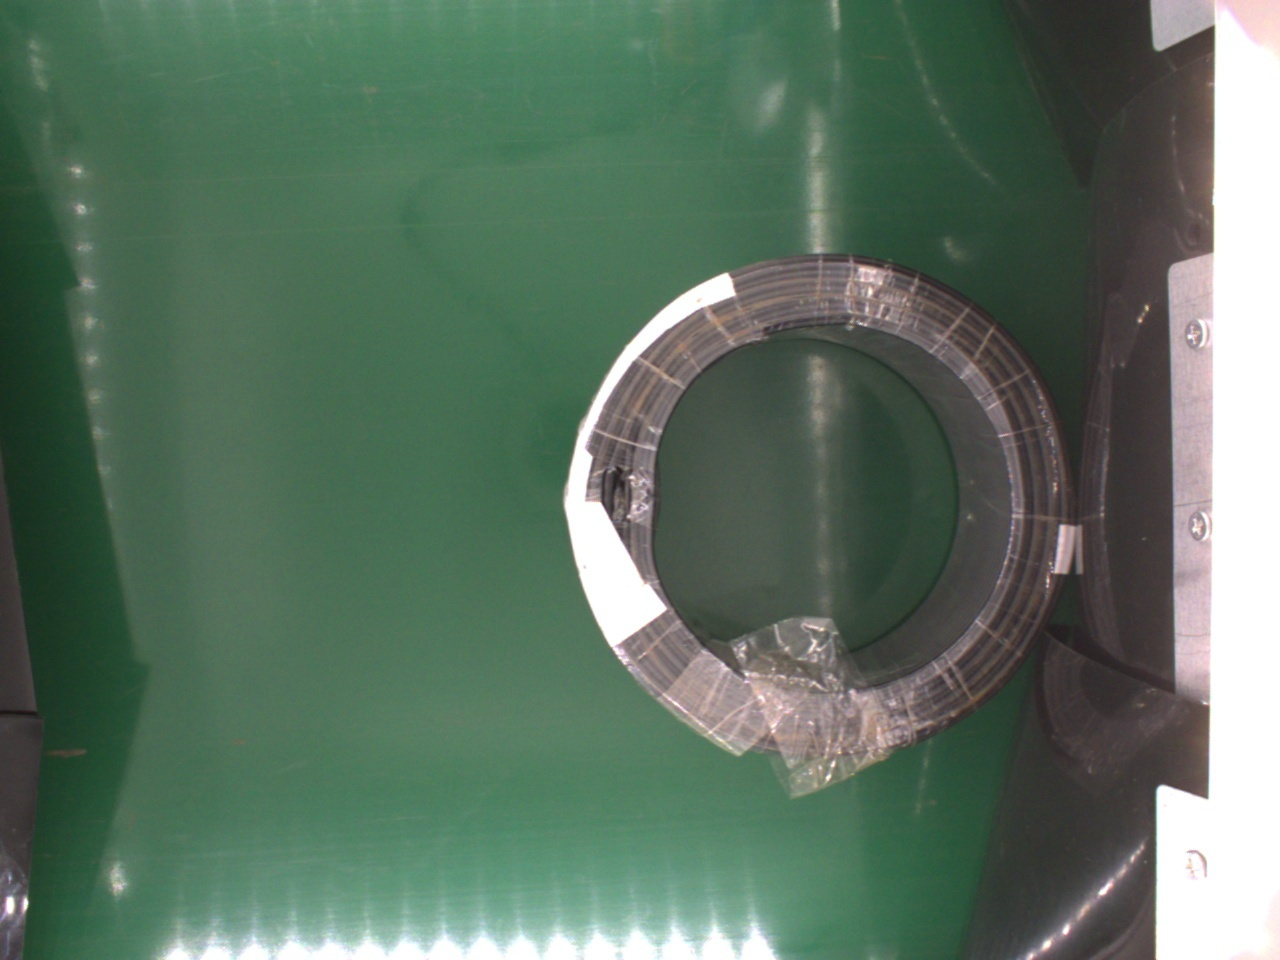black: (570, 254, 1071, 764)
